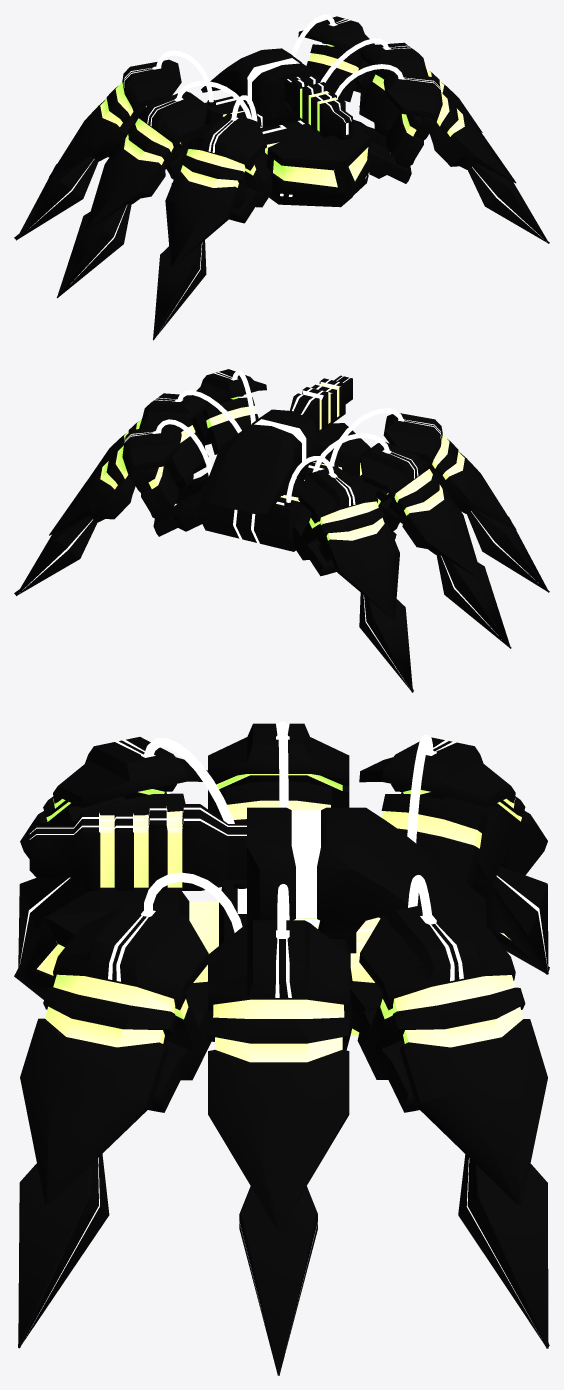
The model's file is spider.glb.
3 renders of one model, top to bottom at view 1: azimuth 30°, elevation 25°; view 2: azimuth 150°, elevation 25°; view 3: azimuth 270°, elevation 25°, orthographic. The views are drawn at different scales.
Parts seen in each view (by area): view 1: Cube, BezierCurve.006, BezierCurve.003, BezierCurve.005, BezierCurve.001; view 2: Cube, BezierCurve.002, BezierCurve.006, BezierCurve, BezierCurve.003, BezierCurve.005; view 3: Cube, BezierCurve.001, BezierCurve.002, BezierCurve.003, BezierCurve.006.
Part boxes in pixels (x1,y1,x2,y2): Cube: (14,16,549,340); BezierCurve.006: (176,81,252,119); BezierCurve.003: (156,50,213,102); BezierCurve.005: (320,38,389,82); BezierCurve.001: (335,64,403,98); Cube: (14,369,549,692); BezierCurve.002: (330,408,403,466); BezierCurve.006: (312,433,390,472); BezierCurve: (155,419,211,476); BezierCurve.003: (286,456,334,502); BezierCurve.005: (177,390,241,433); Cube: (14,723,549,1375); BezierCurve.001: (144,872,242,932); BezierCurve.002: (143,738,234,823); BezierCurve.003: (407,735,433,843); BezierCurve.006: (278,721,288,808).
Size of the model in its own units: 14.95 by 5.73 by 7.88.
